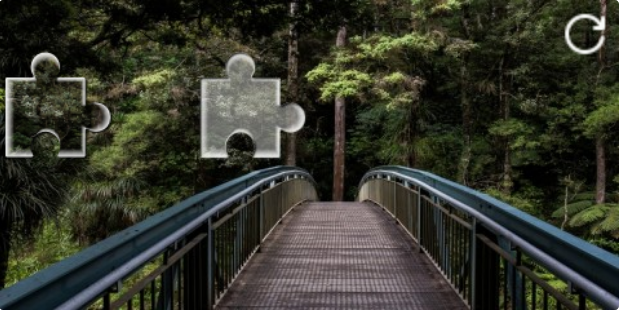target: (200, 53, 304, 158)
